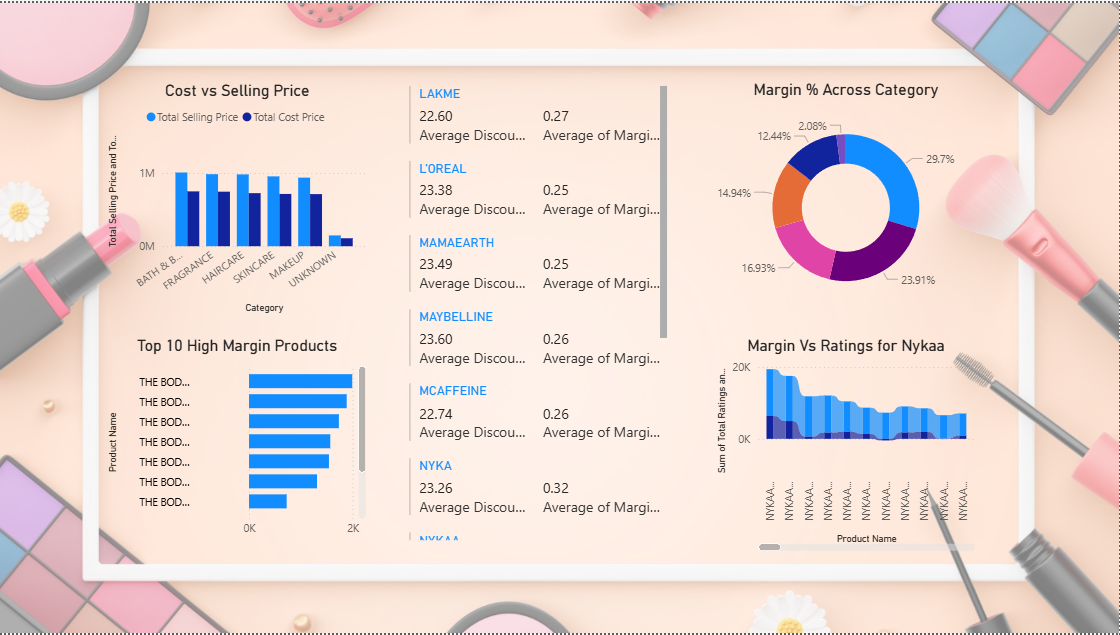

The page's visual inventory and layout, read from the dashboard file:
{"tool":"powerbi","page":{"name":"Page 3","canvas":[1280,720],"ordinal":2},"visuals":[{"type":"clusteredColumnChart","title":"Cost Vs Selling Price","fields":{"Category":["FactSales.Category"],"Y":["FactSales.Total Cost Price","FactSales.Total Selling Price"]},"box":[122.1,127.6,360.9,231.9],"z":0},{"type":"barChart","title":"Top 10 High  Margin Products","fields":{"Category":["FactSales.Product Name"],"Y":["FactSales.Total Margin Amount"]},"box":[122.1,370.5,360.9,230.5],"z":1000},{"type":"multiRowCard","fields":{"Values":["FactSales.Brand","Sum(FactSales.Margin %)","Avg(FactSales.Discount)"]},"box":[514.6,127.6,251.1,473.4],"z":2000},{"type":"donutChart","title":"Margin % Across Category","fields":{"Category":["FactSales.Category"],"Y":["Sum(FactSales.Margin %)"]},"box":[794.5,127.6,360.9,230.5],"z":3000},{"type":"ribbonChart","title":"Margin Vs Ratings for Nykaa","fields":{"Category":["FactSales.Product Name"],"Y":["FactSales.Total Margin Amount","Avg(FactSales.Total Ratings)"]},"box":[794.5,370.5,360.9,230.5],"z":4000}]}

Visuals, with their boxes in screenshot pixels (x1, y1, x2, y2), scaled from the page's 1280x720 canvas onto the 1120x635 screenshot:
"Cost Vs Selling Price" clusteredColumnChart: select_region(107, 113, 423, 317)
"Top 10 High  Margin Products" barChart: select_region(107, 327, 423, 530)
multiRowCard - FactSales.Brand x Sum(FactSales.Margin %): select_region(450, 113, 670, 530)
"Margin % Across Category" donutChart: select_region(695, 113, 1011, 316)
"Margin Vs Ratings for Nykaa" ribbonChart: select_region(695, 327, 1011, 530)
